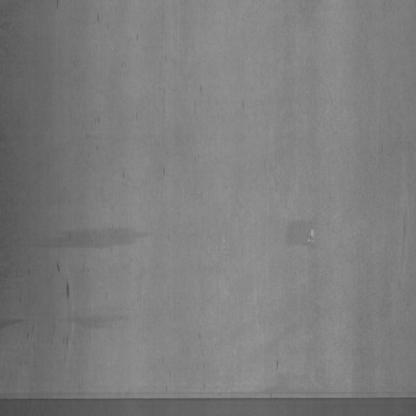welding_line: (0, 387, 414, 411)
